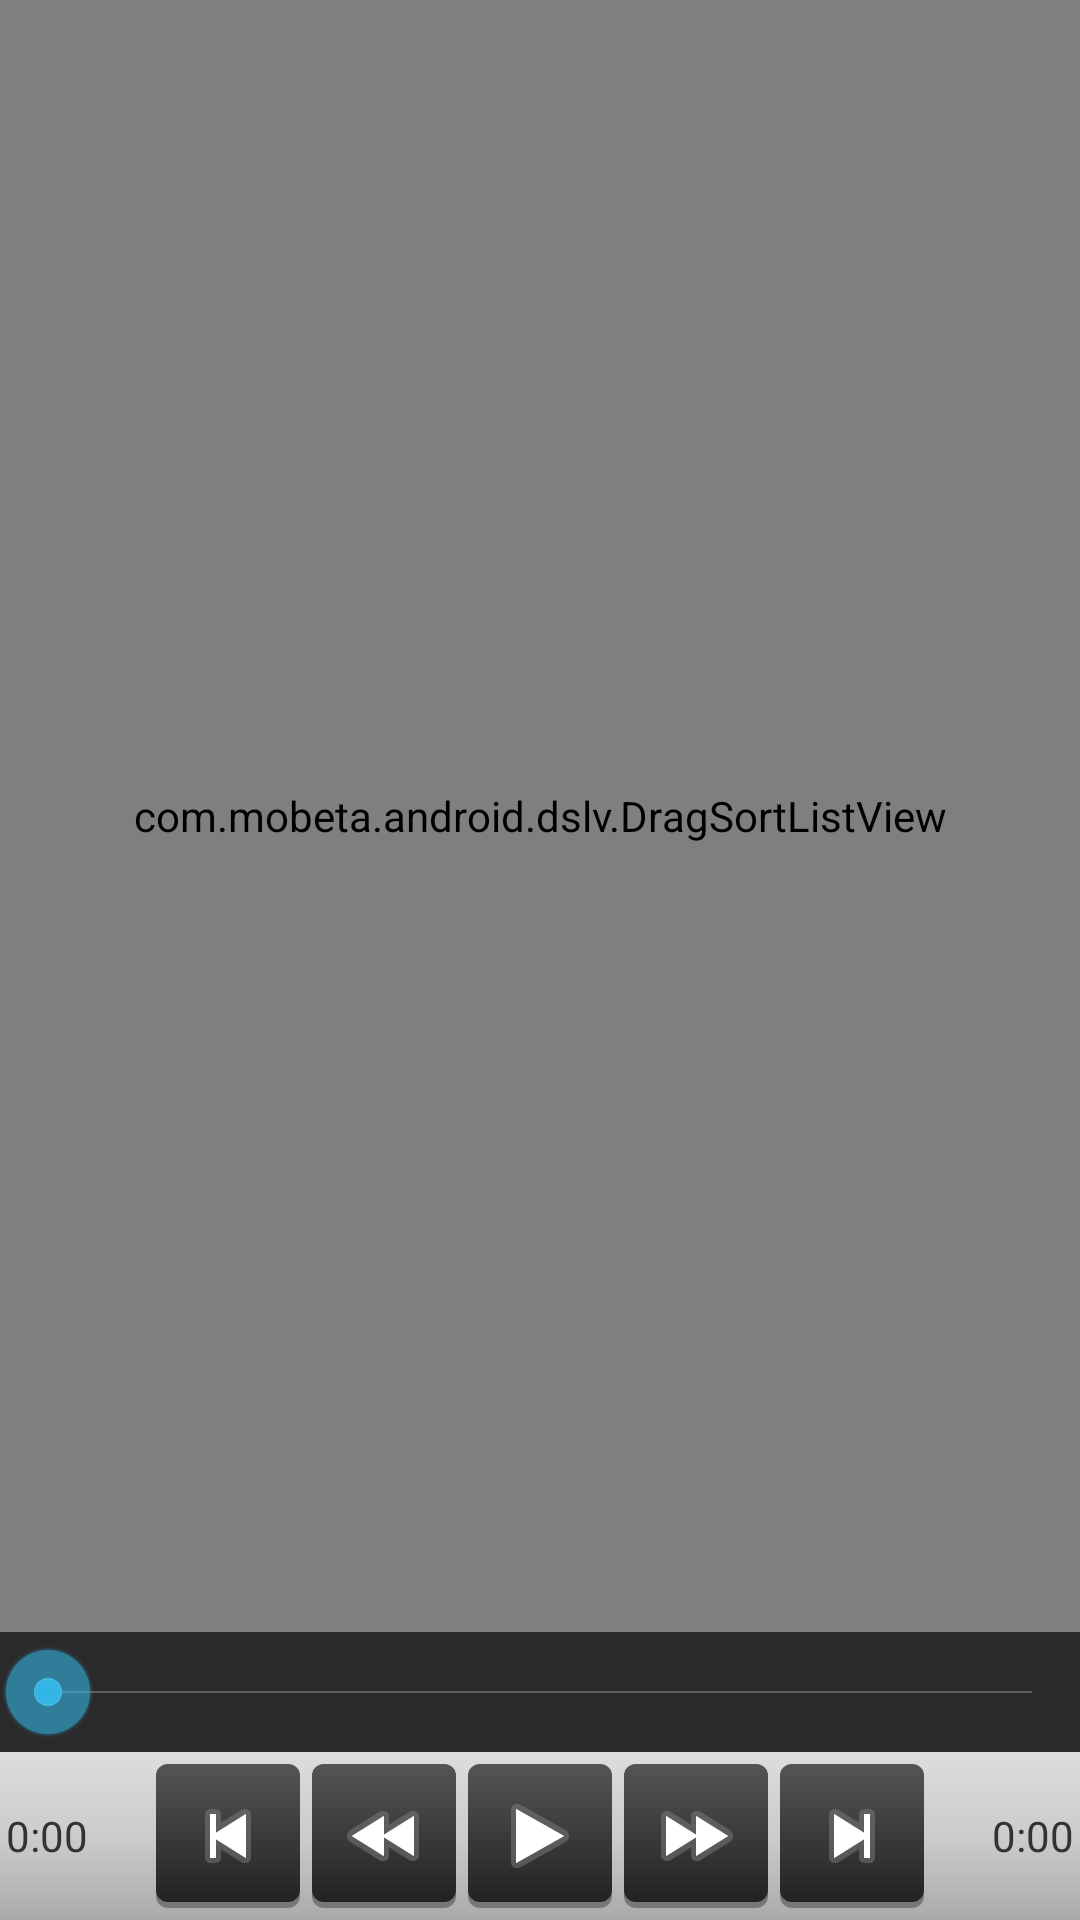

Icon click points for this 1080 x 1920 phone screenshot, format [x,y]:
next: [852,1836]
play: [540,1836]
previous: [228,1836]
rew: [384,1836]
